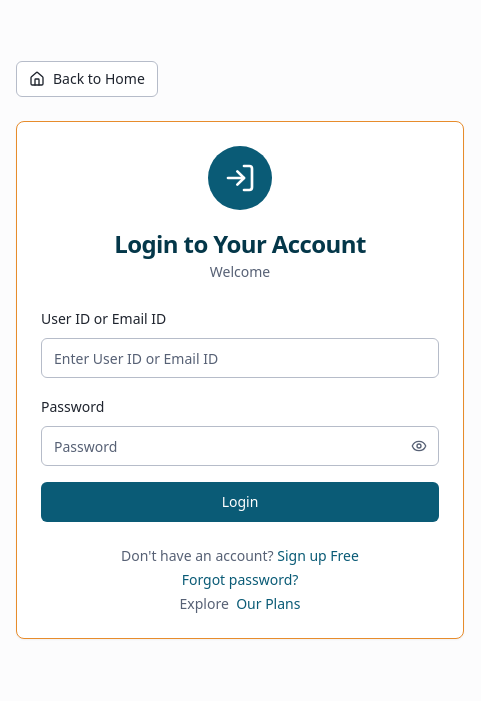
Test: Login — wrong password countdown › uses the singular for the last attempt
The width and height of the screenshot is (481, 701).
Type "agent@example.com" into the field with placeholder "Enter User ID or Email ID". click: (240, 358)
box: [41,338,439,378]
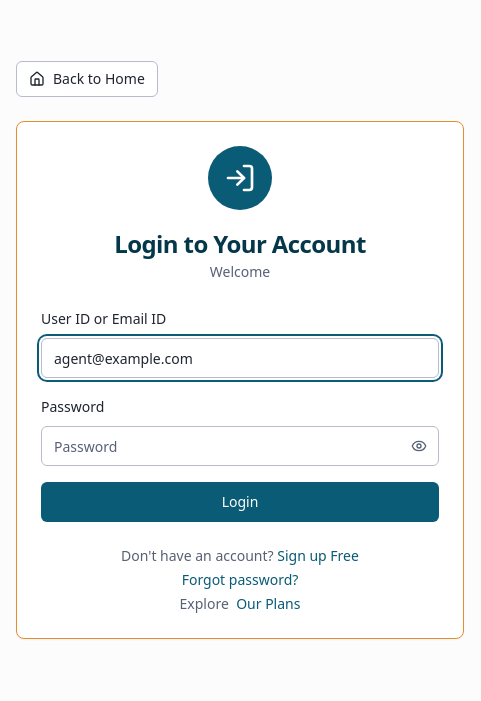
Type "whatever1" into the password field with placeholder "Password". click: (240, 446)
box: [41,426,439,466]
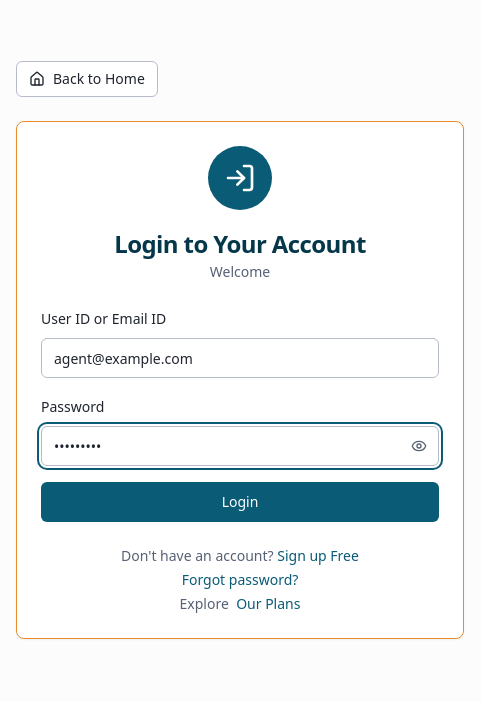
Click the button "Login". click: (240, 502)
box: [41,482,439,522]
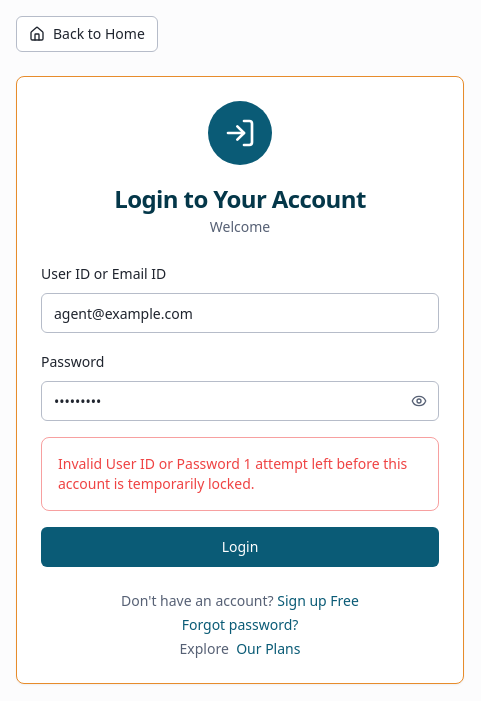
Expected: the text "1 attempt left before this account is temporarily locked" is shown, [58,454,407,493]
